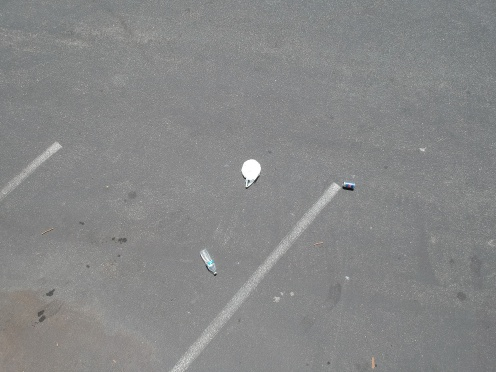bottle: (189, 243, 224, 280)
can: (342, 179, 358, 191)
plastic bag: (237, 153, 267, 190)
